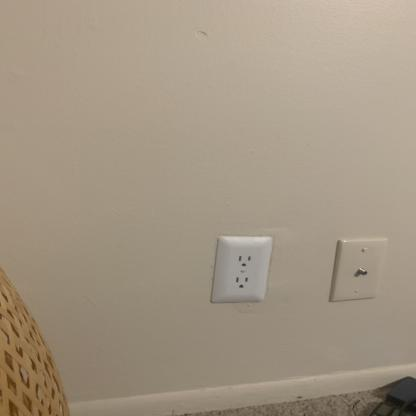OUTLET: (214, 236, 269, 302)
